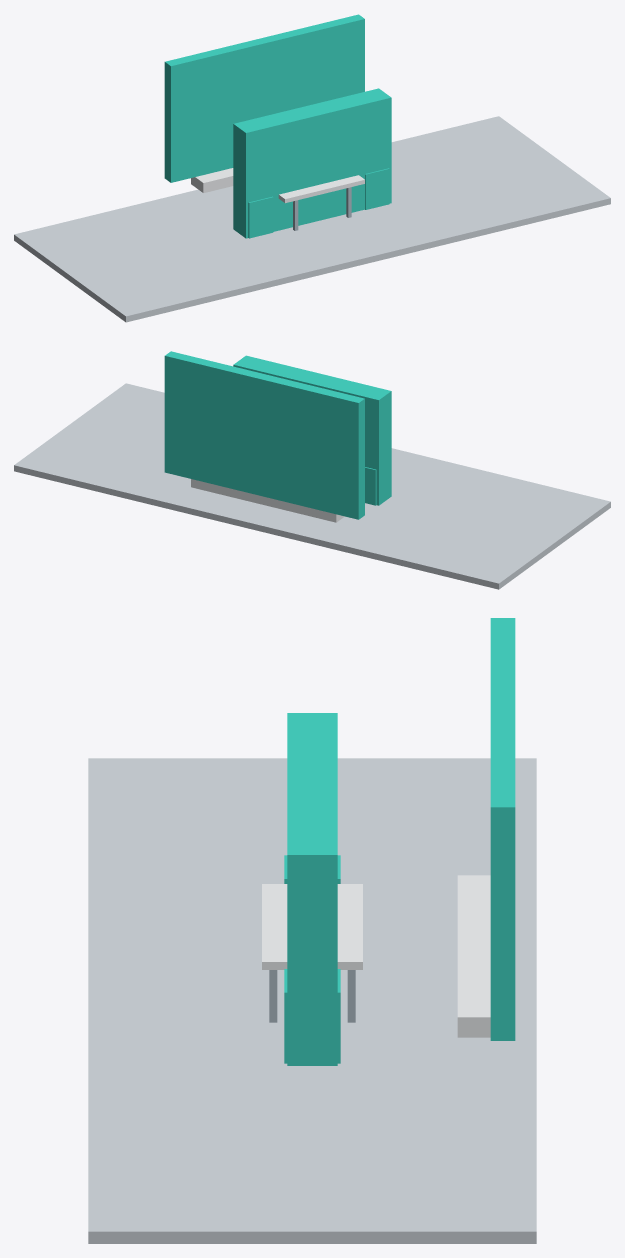
The picture shows the model from 3 angles, top to bottom: view 1: azimuth 30°, elevation 25°; view 2: azimuth 150°, elevation 25°; view 3: azimuth 270°, elevation 25°; orthographic projection. The views are drawn at different scales.
Visible parts, largest first — view 1: Exhibition Booth Concept; view 2: Exhibition Booth Concept; view 3: Exhibition Booth Concept.
Boxes of the visible parts, <box> form: Exhibition Booth Concept: <box>14,14,610,322</box>; Exhibition Booth Concept: <box>14,351,610,589</box>; Exhibition Booth Concept: <box>88,618,536,1243</box>.
Bounding box in the file's own units: 10 × 2.9 × 4.
